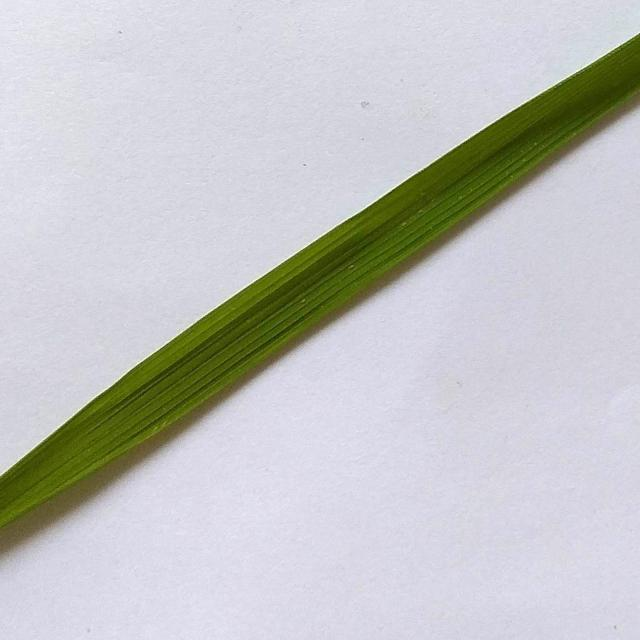healthy: (0, 23, 640, 552)
